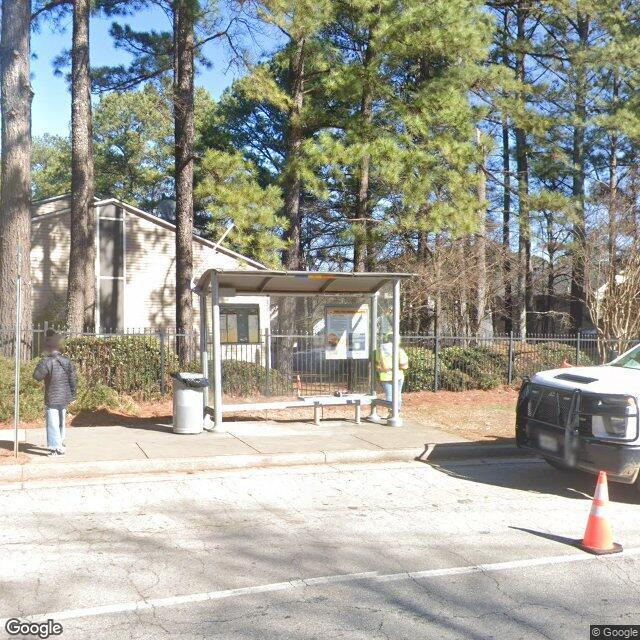seating: (302, 392, 376, 427)
shelter: (190, 268, 418, 434)
trash_can: (172, 372, 205, 434), (383, 370, 403, 417)
